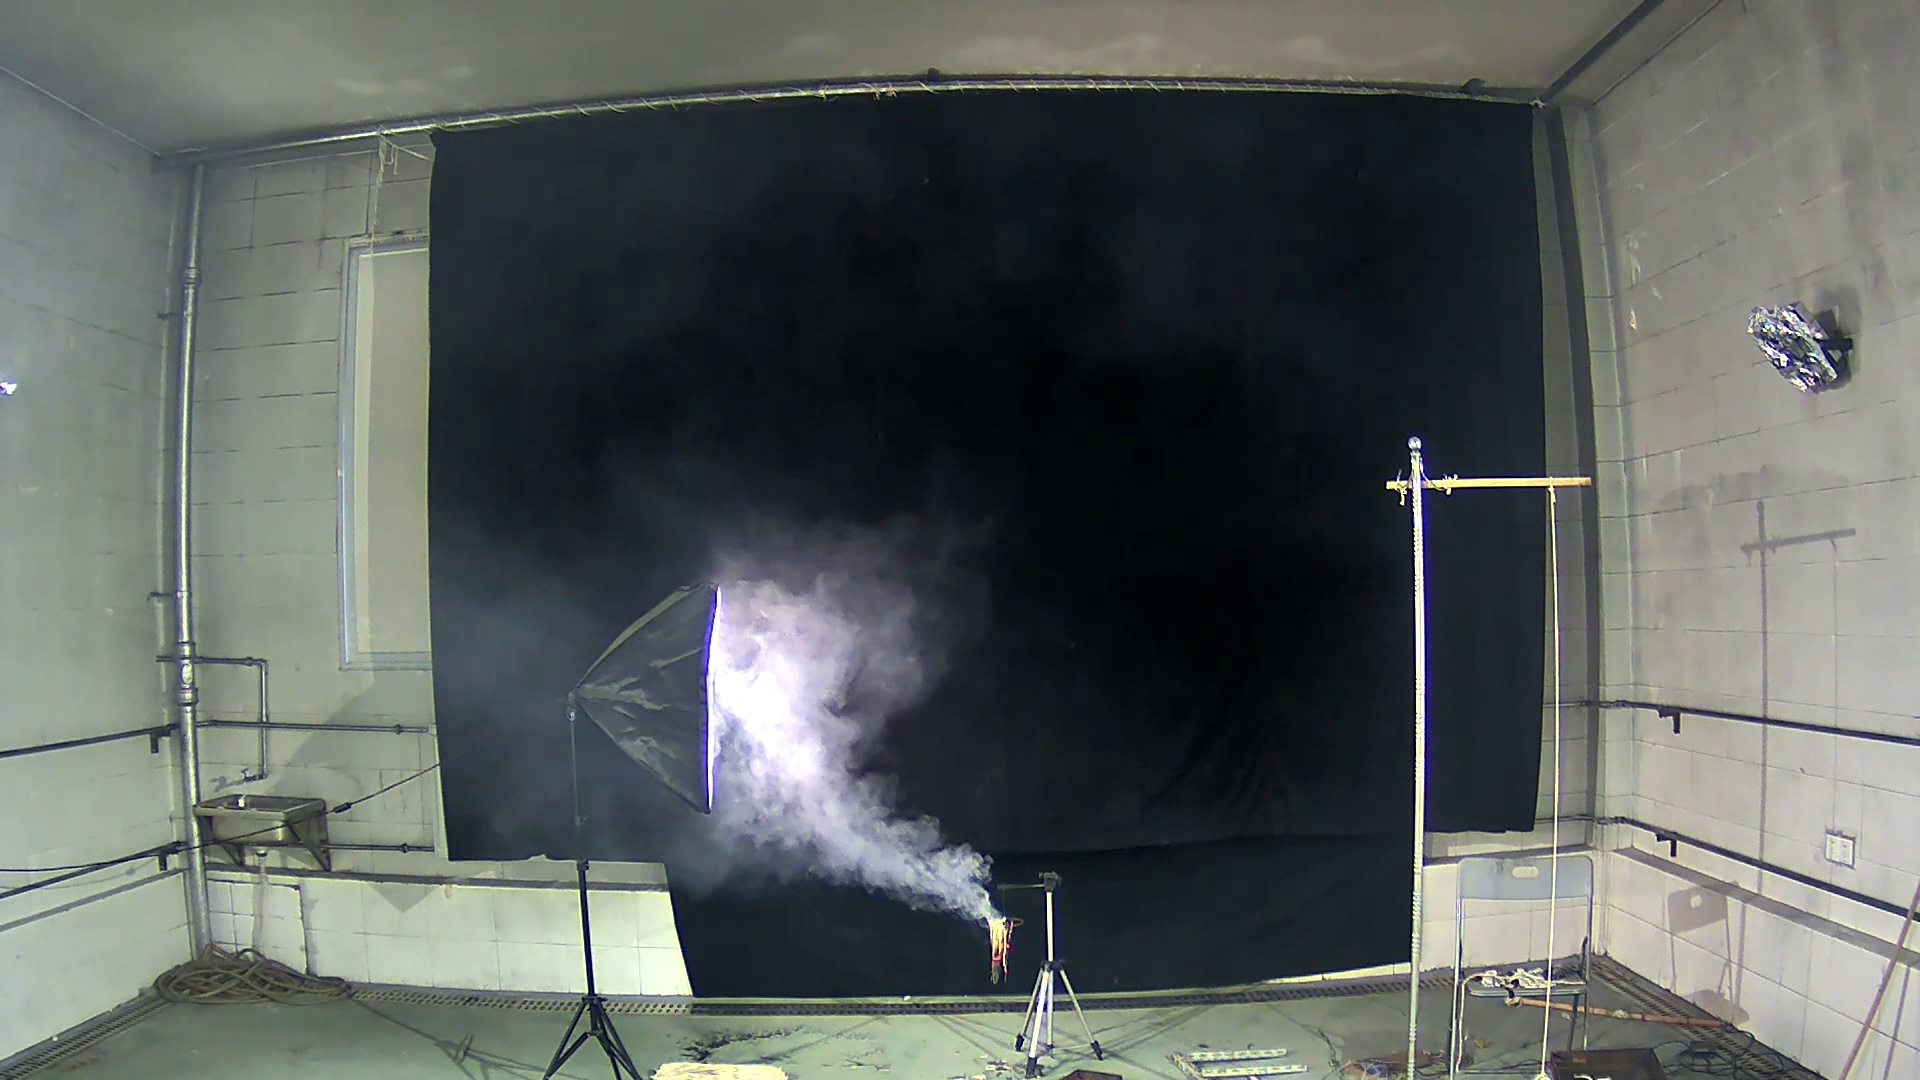smoke: (702, 422, 1002, 930)
